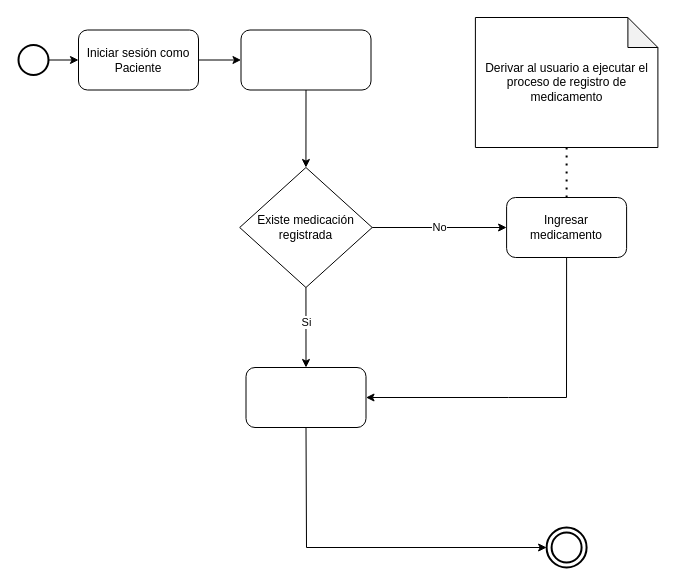
This 675x586 diagram has some shape labels left out. Each missing label, with the box of its shape:
Acceder a Medicación Consumida: (240, 29, 371, 90)
Notificar consumo de medicamento según la info. registrada: (245, 366, 366, 428)
